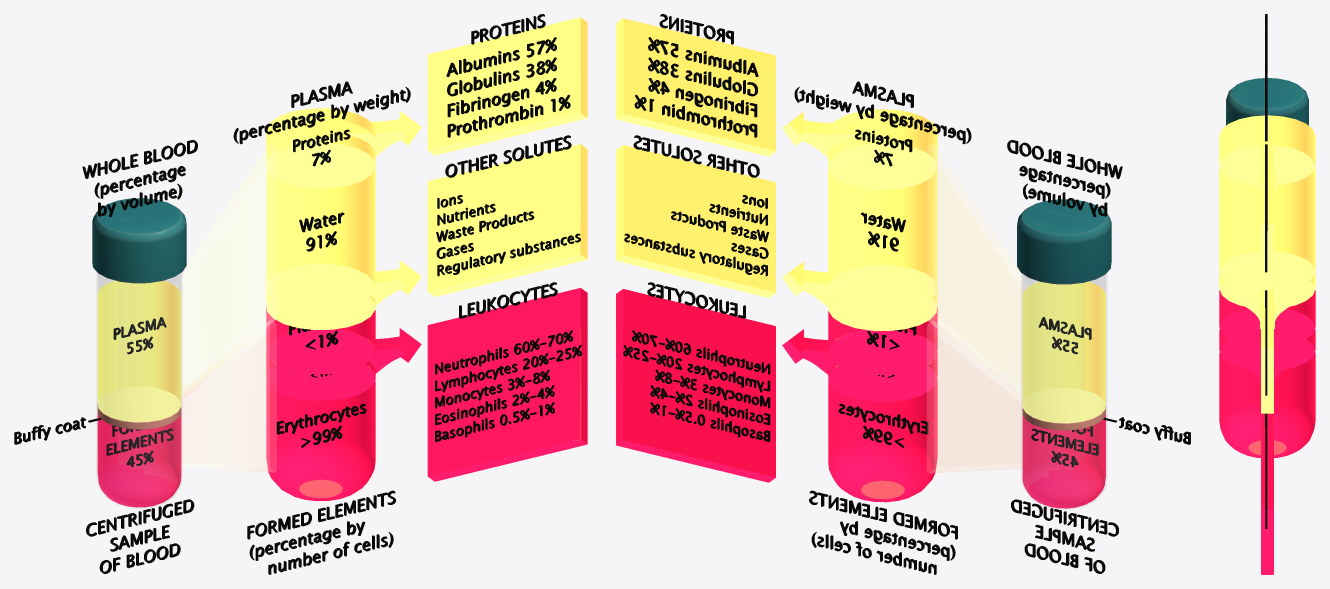
The model's file is blood-components.glb.
3 views of the same model, side by side, from view 1: azimuth 30°, elevation 25°; view 2: azimuth 150°, elevation 25°; view 3: azimuth 270°, elevation 25° (orthographic). The views are drawn at different scales.
Parts seen in each view (by area): view 1: revers, Type_type_0.001, op, Glas, polySurface3; view 2: revers, Type_type_0.001, op, Glas, polySurface3; view 3: revers, polySurface3, Type_type_0.001.
Boxes of the visible parts, x1,y1,x2,y2 form: revers: (97,17,587,507); Type_type_0.001: (14,14,581,574); op: (181,142,276,471); Glas: (96,273,181,508); polySurface3: (92,198,186,429); revers: (616,18,1105,508); Type_type_0.001: (623,14,1190,574); op: (927,143,1022,472); Glas: (1021,273,1106,509); polySurface3: (1017,199,1111,430); revers: (1219,115,1315,574); polySurface3: (1226,78,1308,125); Type_type_0.001: (1265,14,1267,528).
Bounding box in the file's own units: 0.9019 × 0.7492 × 0.1506.
Materials: 5 (3 with a texture image).
